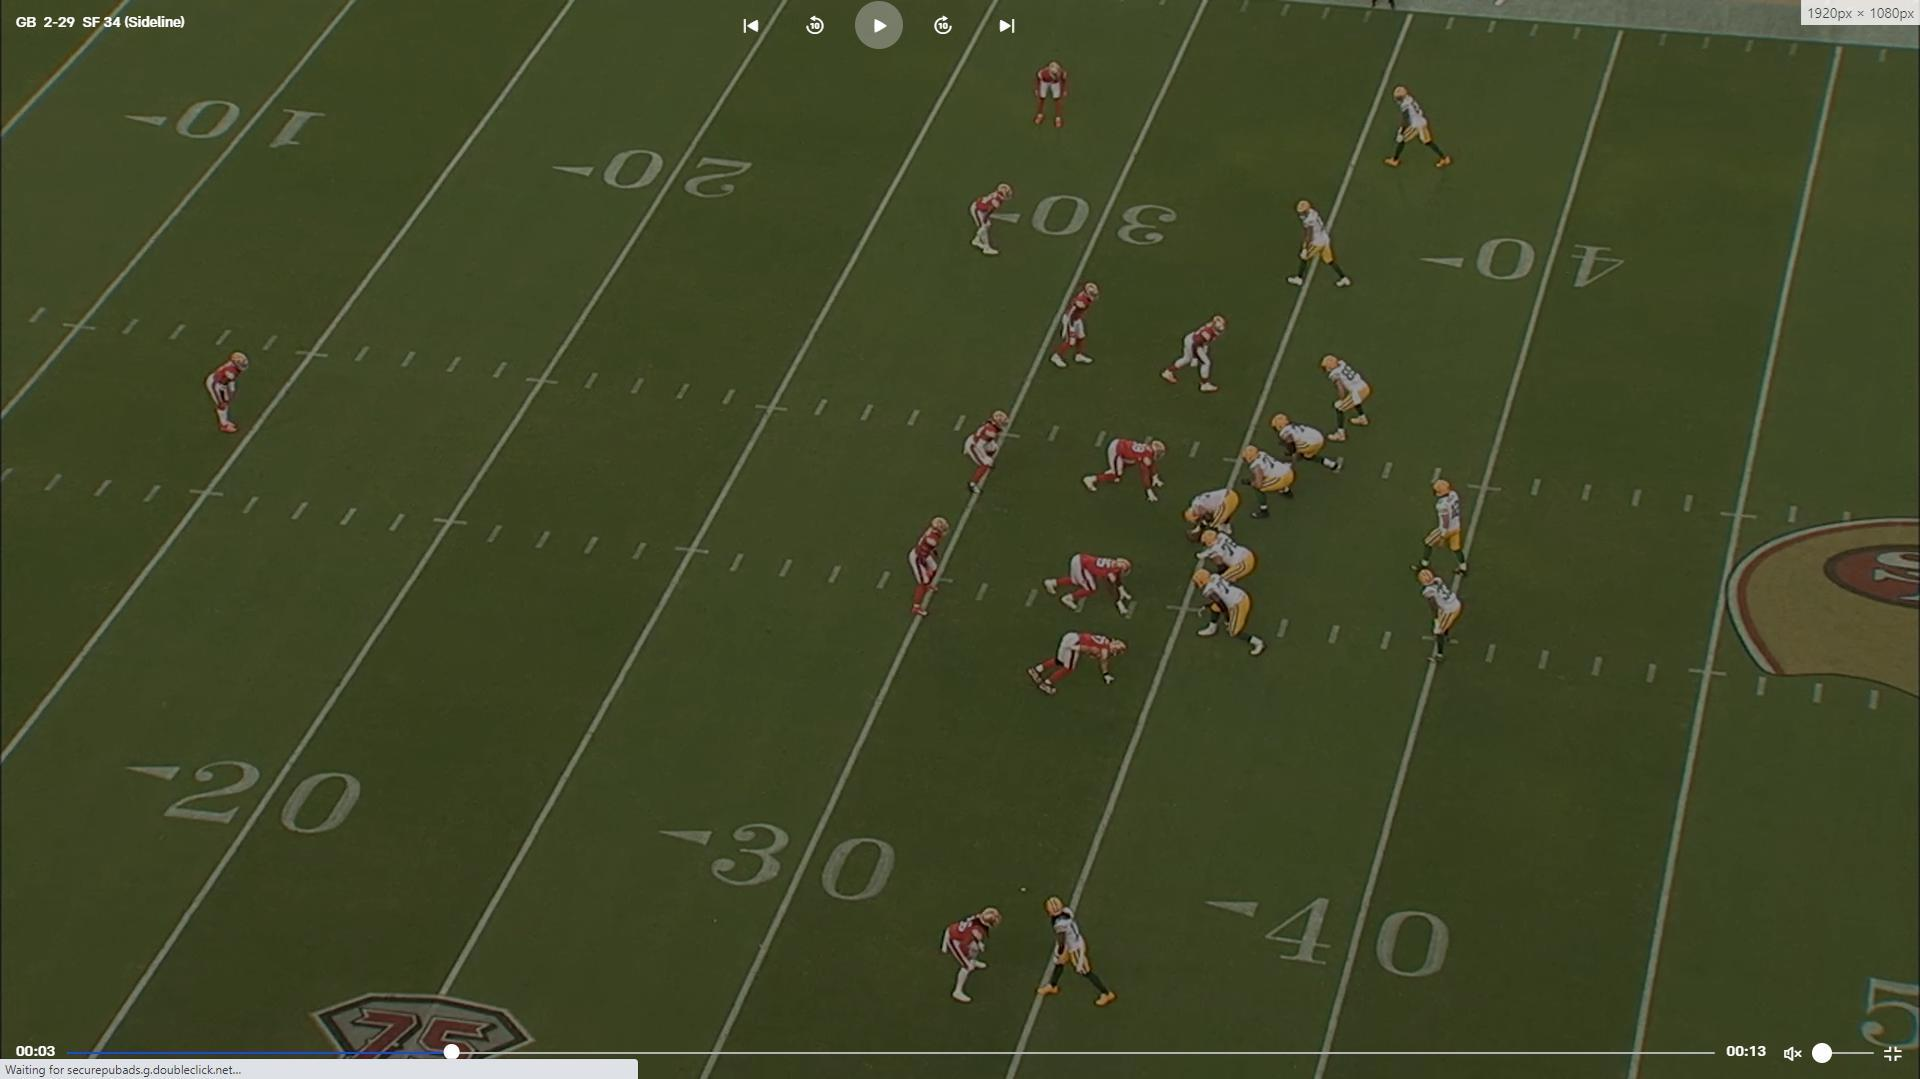player: (1038, 894, 1119, 1013), (1025, 630, 1130, 698), (1288, 195, 1359, 295), (1381, 80, 1455, 174), (939, 904, 1003, 1008), (1198, 568, 1271, 658), (1039, 551, 1136, 618), (1412, 475, 1473, 581), (1161, 311, 1232, 396), (1084, 438, 1174, 504), (1416, 562, 1468, 664), (1049, 278, 1104, 373), (1322, 352, 1377, 446), (1238, 444, 1302, 524), (1270, 411, 1343, 478), (910, 518, 954, 625), (964, 408, 1009, 499), (207, 352, 252, 441), (1200, 529, 1263, 591), (967, 179, 1013, 261), (1180, 484, 1237, 544), (1033, 59, 1075, 136)
